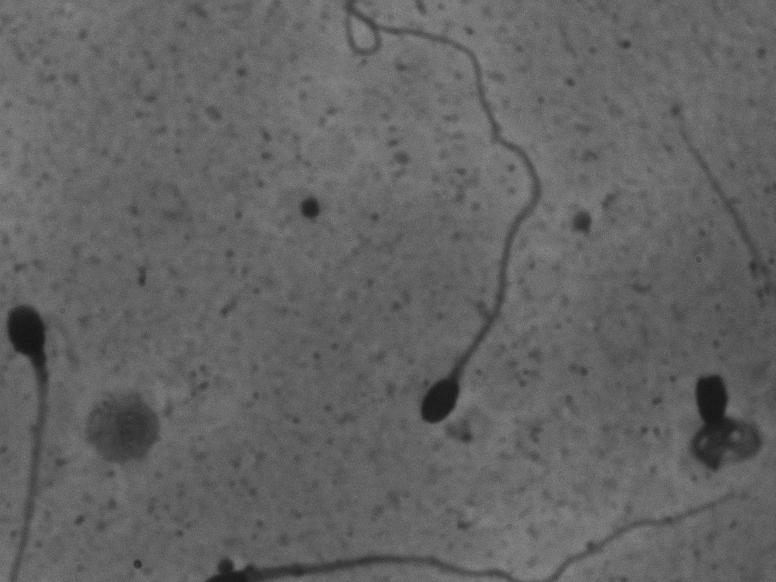Abnormal: (373, 16, 569, 449), (666, 351, 769, 488)
